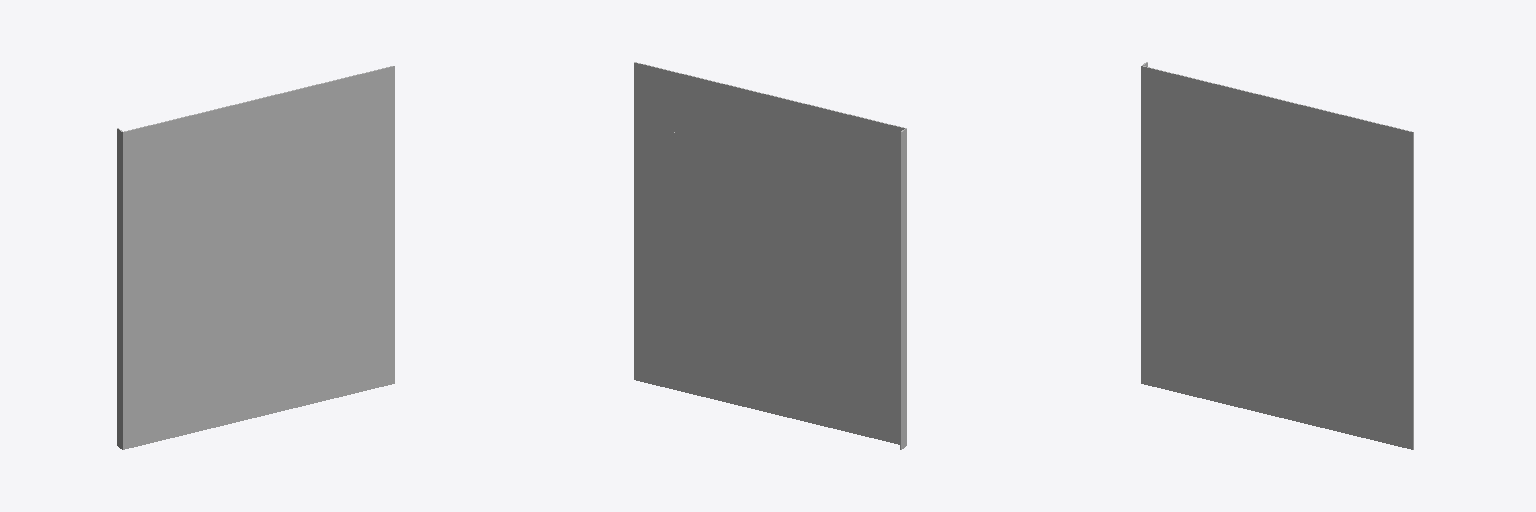
Rendered from Spiegel.obj.
3 views of the same model, side by side, from view 1: azimuth 30°, elevation 25°; view 2: azimuth 150°, elevation 25°; view 3: azimuth 330°, elevation 25° (orthographic).
Parts seen in each view (by area): view 1: Mesh1 Component_759 G_20_Spiegel_dwg1 Model, Mesh7 Component_761 G_20_Spiegel_dwg1 Model, Mesh5 Component_760 G_20_Spiegel_dwg1 Model, Mesh9 Component_762 G_20_Spiegel_dwg1 Model; view 2: Mesh1 Component_759 G_20_Spiegel_dwg1 Model, Mesh7 Component_761 G_20_Spiegel_dwg1 Model, Mesh5 Component_760 G_20_Spiegel_dwg1 Model, Mesh9 Component_762 G_20_Spiegel_dwg1 Model; view 3: Mesh1 Component_759 G_20_Spiegel_dwg1 Model, Mesh5 Component_760 G_20_Spiegel_dwg1 Model, Mesh7 Component_761 G_20_Spiegel_dwg1 Model.
Part boxes in pixels (x1,y1,x2,y2): Mesh1 Component_759 G_20_Spiegel_dwg1 Model: (122, 66, 394, 449); Mesh7 Component_761 G_20_Spiegel_dwg1 Model: (160, 181, 169, 397); Mesh5 Component_760 G_20_Spiegel_dwg1 Model: (348, 136, 356, 351); Mesh9 Component_762 G_20_Spiegel_dwg1 Model: (117, 128, 122, 448); Mesh1 Component_759 G_20_Spiegel_dwg1 Model: (634, 62, 906, 445); Mesh7 Component_761 G_20_Spiegel_dwg1 Model: (859, 178, 868, 393); Mesh5 Component_760 G_20_Spiegel_dwg1 Model: (672, 132, 680, 347); Mesh9 Component_762 G_20_Spiegel_dwg1 Model: (900, 129, 905, 449); Mesh1 Component_759 G_20_Spiegel_dwg1 Model: (1141, 66, 1413, 449); Mesh5 Component_760 G_20_Spiegel_dwg1 Model: (1366, 181, 1375, 397); Mesh7 Component_761 G_20_Spiegel_dwg1 Model: (1179, 136, 1187, 351).
Bounding box in the file's own units: 126 × 140 × 4.6.